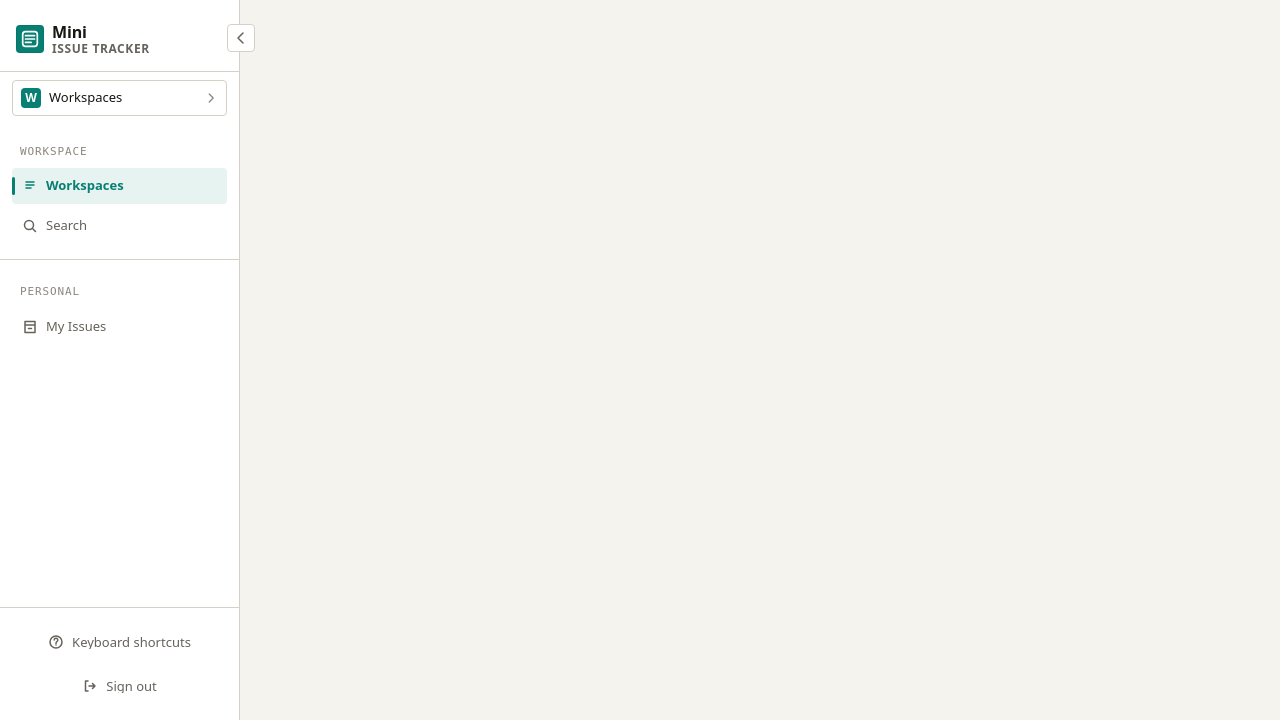
Test case: accessibility › global search overlay is axe-clean when opened and with results
The image size is (1280, 720).
Click the button with aria-label "Search issues" at (120, 226), box x1=12 y1=208 x2=227 y2=243
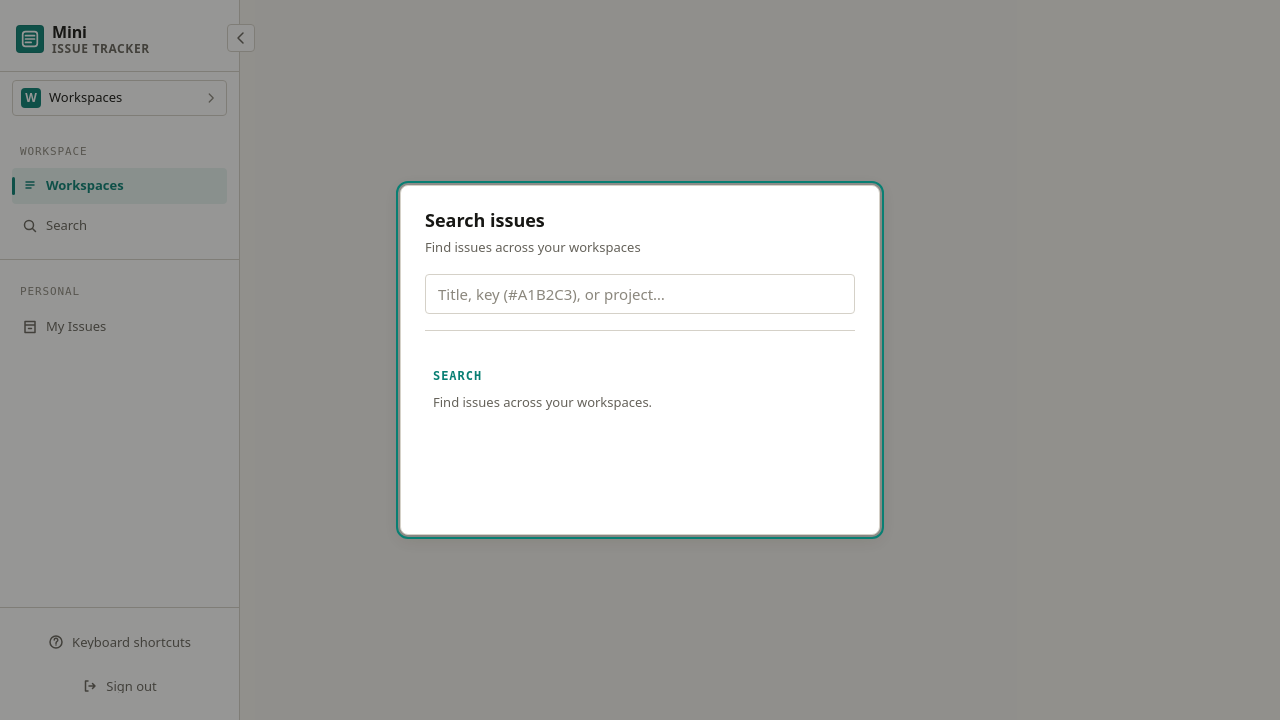
Check: the dialog is shown, box x1=400 y1=185 x2=880 y2=535
Type "res" into the field named "Search issues" at (640, 294), box x1=425 y1=274 x2=855 y2=314
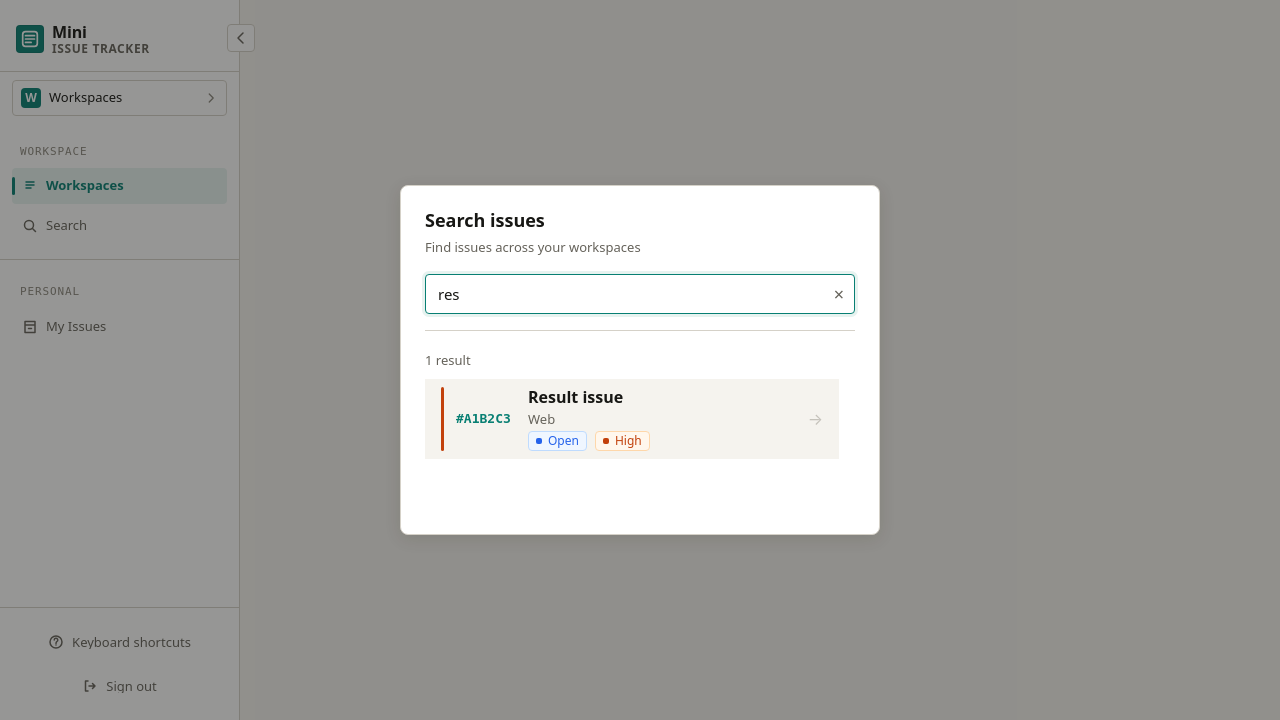
Check: the text "Result issue" is shown, box x1=528 y1=386 x2=623 y2=408
